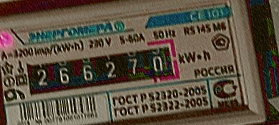0: (148, 53, 162, 74)
2: (32, 66, 49, 88), (102, 59, 116, 80)
6: (55, 65, 70, 86), (79, 62, 93, 82)
7: (125, 56, 139, 76)
screen: (10, 31, 189, 109)
